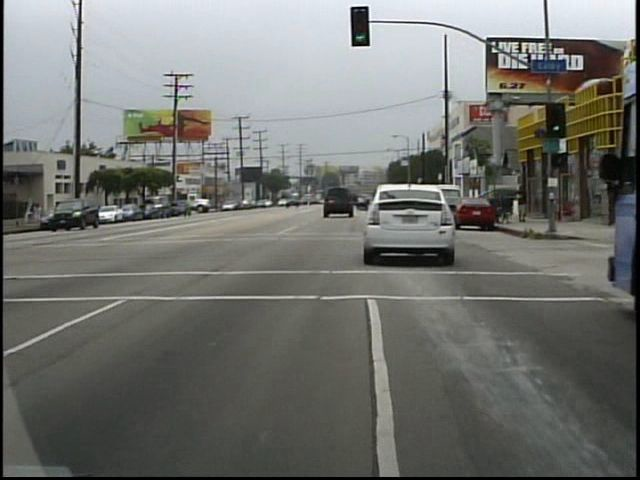person: (513, 180, 534, 230), (41, 200, 42, 229)
